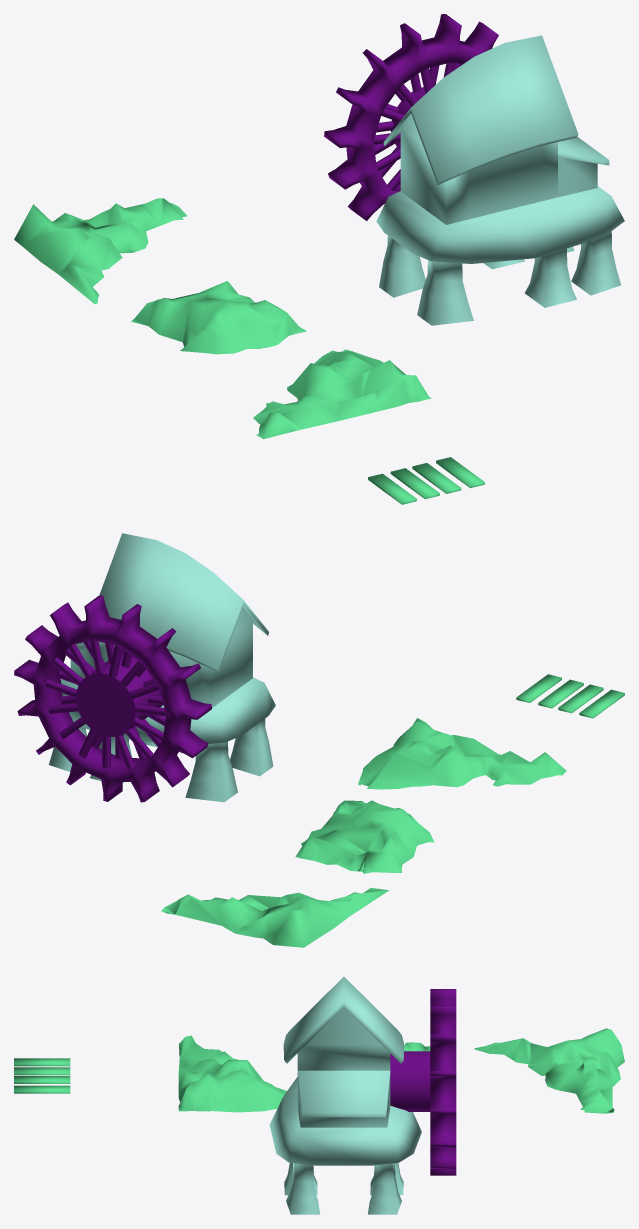
File: abeas_water mil.obj
3 renders of one model, top to bottom at view 1: azimuth 30°, elevation 25°; view 2: azimuth 150°, elevation 25°; view 3: azimuth 270°, elevation 25°, orthographic. The views are drawn at different scales.
Visible parts, largest first — view 1: water_mill_1, water_mill_2, water_mill_4, water_mill_3, rock_2, rock_3, rock_1, planks; view 2: water_mill_4, water_mill_2, water_mill_1, rock_2, rock_3, rock_1, water_mill_3, water_mill_6, planks, water_mill_5; view 3: water_mill_1, water_mill_2, rock_3, rock_2, water_mill_3, water_mill_4, water_mill_5, planks.
Part boxes in pixels (<box>): water_mill_1: <box>376,186,624,325</box>; water_mill_2: <box>383,35,609,184</box>; water_mill_4: <box>324,14,498,220</box>; water_mill_3: <box>385,113,597,224</box>; rock_2: <box>253,349,431,439</box>; rock_3: <box>14,198,187,304</box>; rock_1: <box>131,281,306,354</box>; planks: <box>368,457,484,504</box>; water_mill_4: <box>14,595,211,802</box>; water_mill_2: <box>76,533,268,671</box>; water_mill_1: <box>49,677,275,802</box>; rock_2: <box>358,718,566,789</box>; rock_3: <box>161,887,388,947</box>; rock_1: <box>295,800,434,873</box>; water_mill_3: <box>70,606,267,707</box>; water_mill_6: <box>76,673,135,736</box>; planks: <box>516,674,624,718</box>; water_mill_5: <box>91,650,162,728</box>; water_mill_1: <box>269,1077,421,1214</box>; water_mill_2: <box>283,977,404,1117</box>; rock_3: <box>474,1028,624,1113</box>; rock_2: <box>178,1035,286,1112</box>; water_mill_3: <box>297,1008,390,1127</box>; water_mill_4: <box>430,989,456,1175</box>; water_mill_5: <box>390,1051,430,1111</box>; planks: <box>14,1058,70,1093</box>.
Bounding box in the file's own units: 142 × 75.79 × 210.
